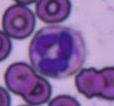N: (28, 25, 86, 78)
